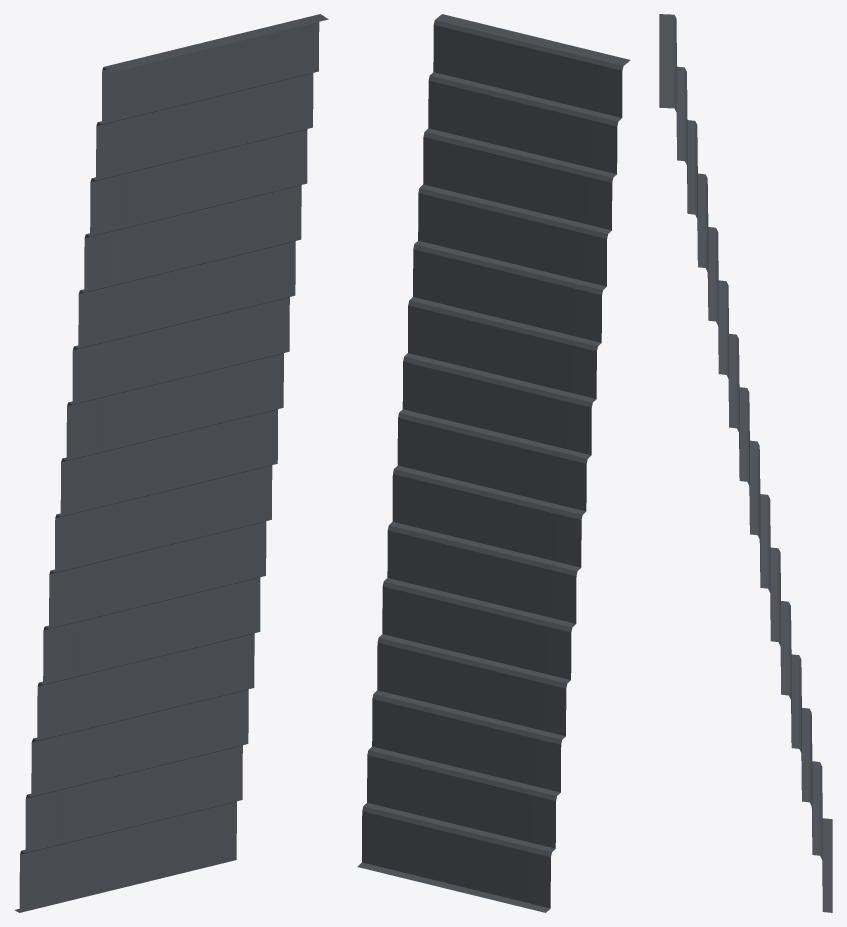
Rendered from Stairs 01.FBX.
3 views of the same model, side by side, from view 1: azimuth 30°, elevation 25°; view 2: azimuth 150°, elevation 25°; view 3: azimuth 270°, elevation 25° (orthographic). The views are drawn at different scales.
Visible parts, largest first — view 1: Stairs 01; view 2: Stairs 01; view 3: Stairs 01.
Boxes of the visible parts, x1,y1,x2,y2 form: Stairs 01: (14,14,328,912); Stairs 01: (357,14,630,912); Stairs 01: (659,14,832,912).
Size of the model in its own units: 200 by 800 by 156.
